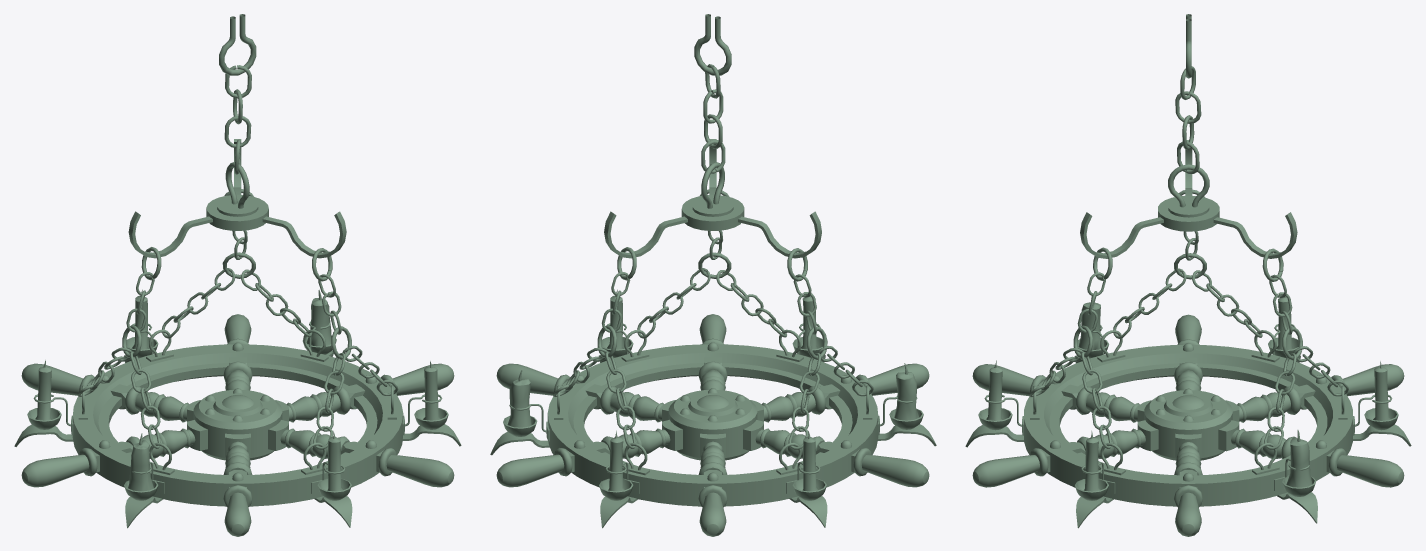
File: chandelier.glb
3 views of the same model, side by side, from view 1: azimuth 30°, elevation 25°; view 2: azimuth 150°, elevation 25°; view 3: azimuth 270°, elevation 25° (orthographic).
Visible parts, largest first — view 1: pirate_chandelier; view 2: pirate_chandelier; view 3: pirate_chandelier.
Part boxes in pixels (x1,y1,x2,y2): pirate_chandelier: [14, 14, 461, 536]; pirate_chandelier: [490, 14, 936, 536]; pirate_chandelier: [965, 14, 1411, 536].
Bounding box in the file's own units: 0.9972 × 0.9667 × 0.898.
